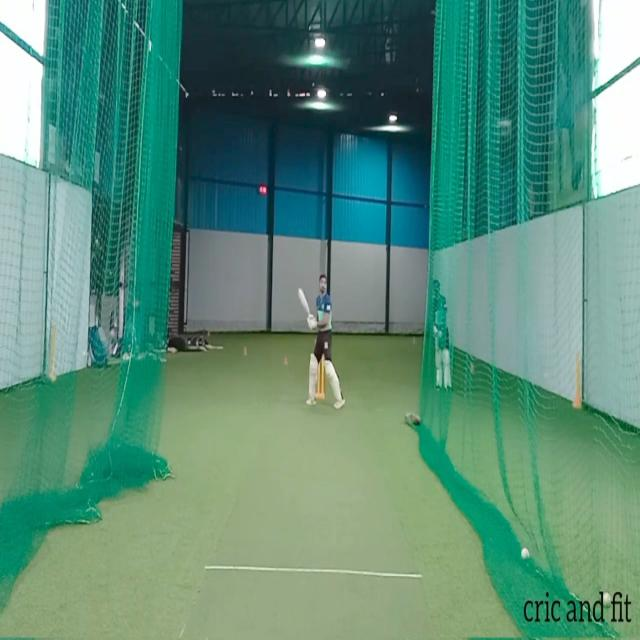batsman: (298, 272, 346, 413)
